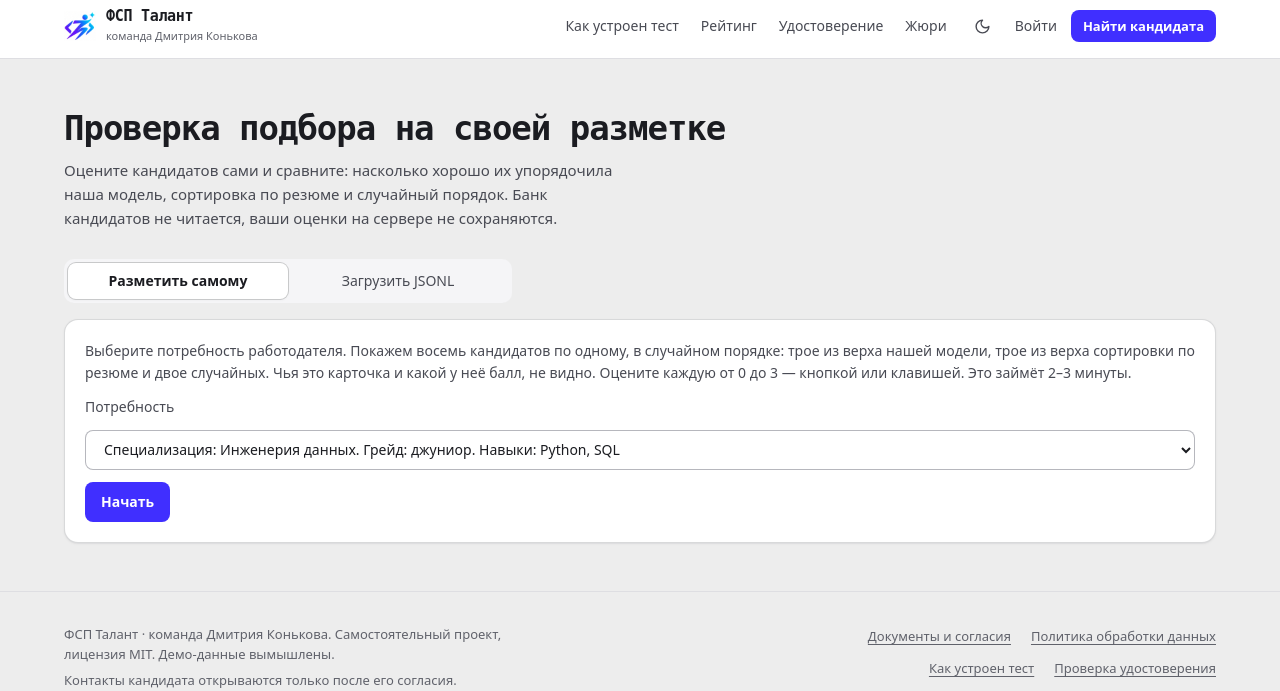
Test: подбор на своей разметке › отправляет пример и показывает метрики модели и базовой линии
Click the tab "Загрузить JSONL".
click(398, 281)  # box top-left (288, 263), bottom-right (508, 299)
(page scrolled)
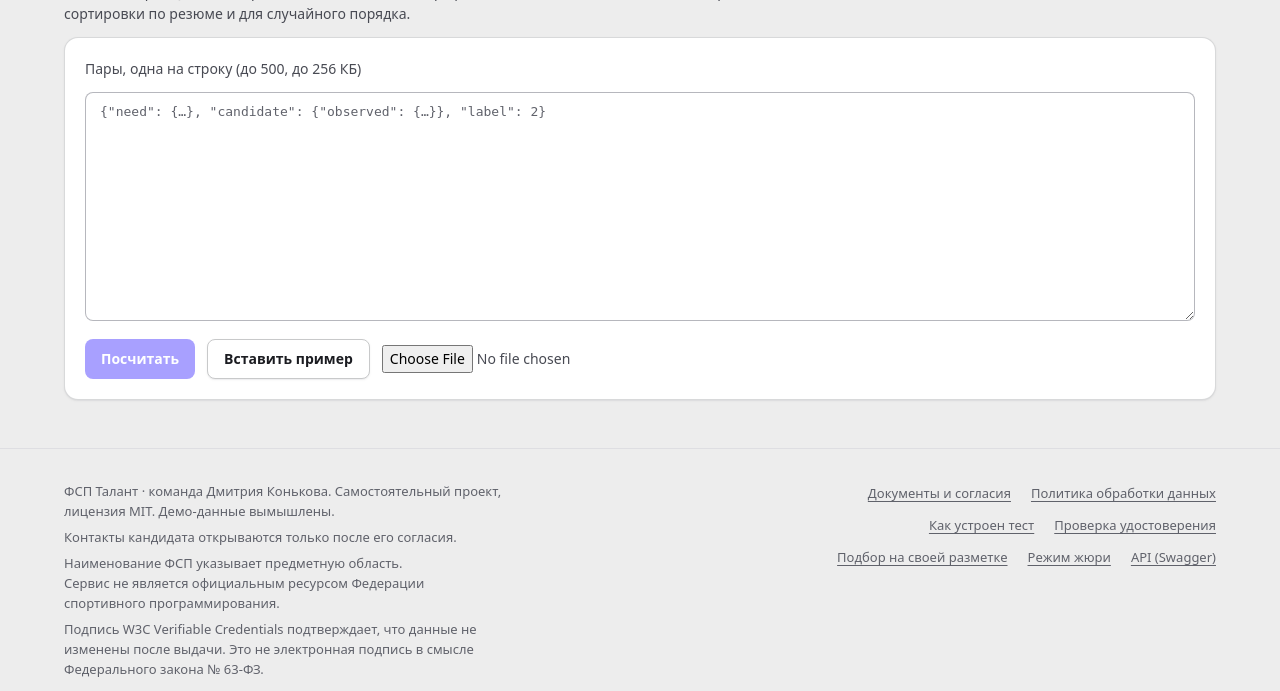
Click the button "Вставить пример".
click(288, 359)  # box top-left (207, 339), bottom-right (370, 379)
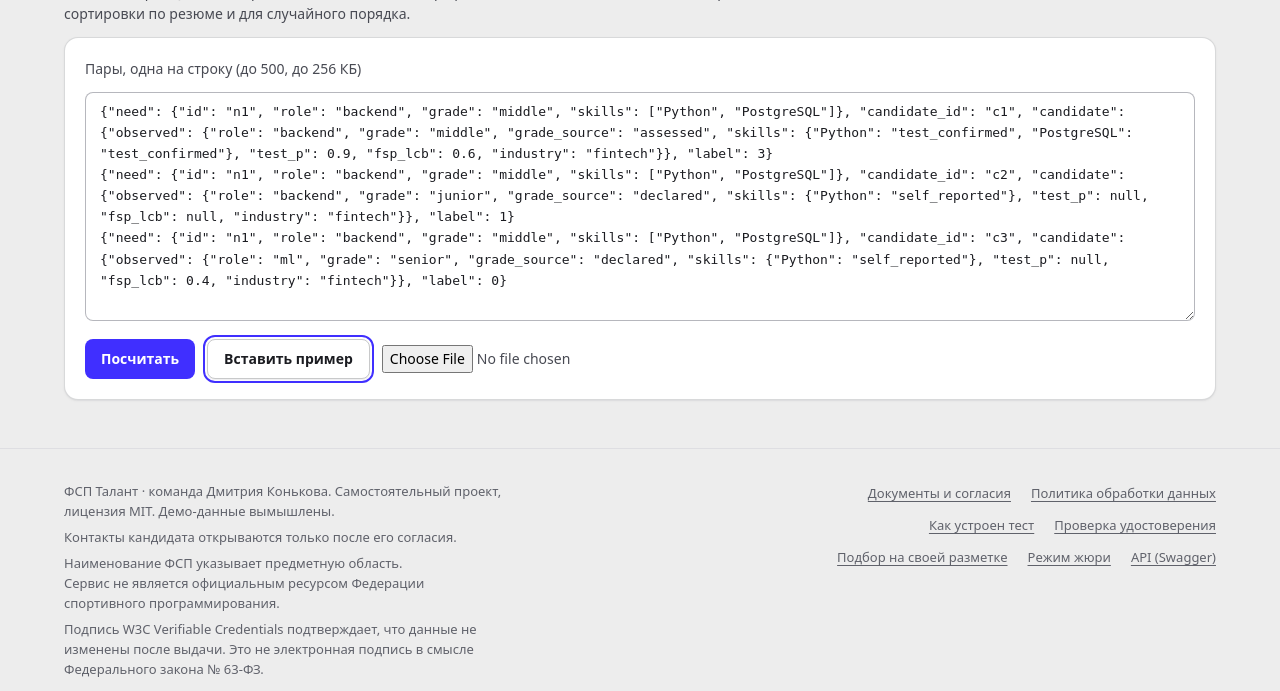
Click the button "Посчитать".
click(140, 359)  # box top-left (85, 339), bottom-right (195, 379)
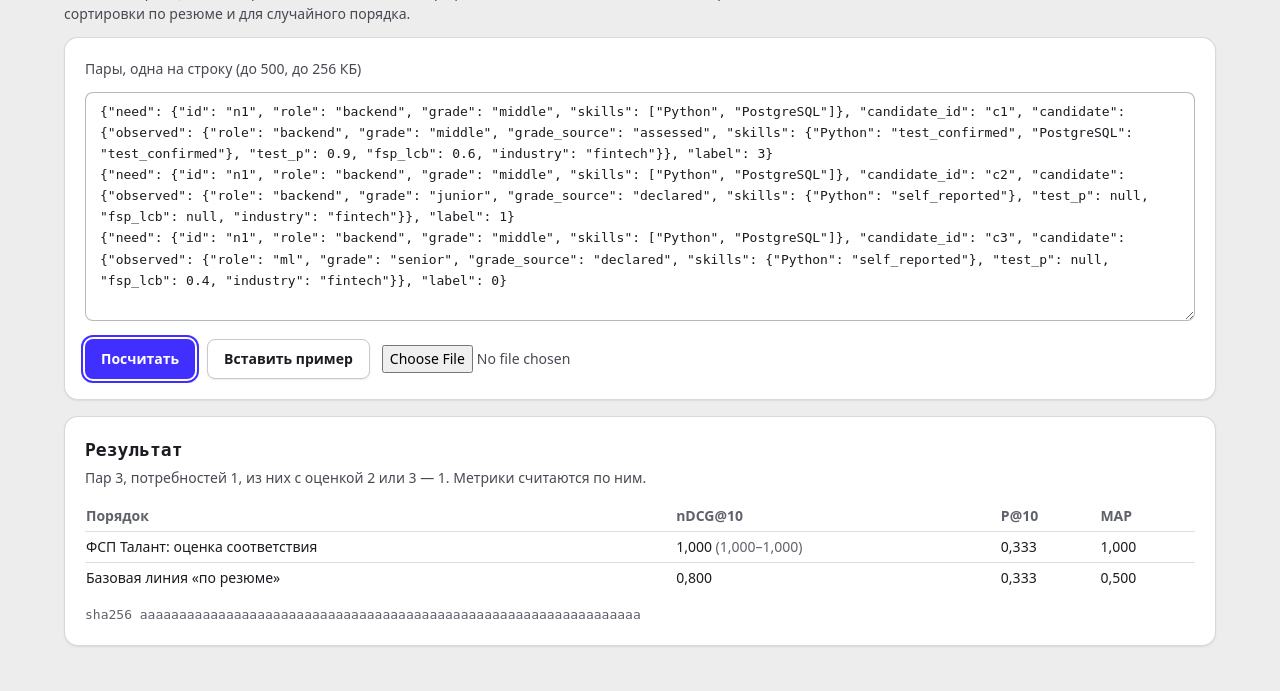
Check: the text "Базовая линия «по резюме»" is shown, box top-left (85, 563), bottom-right (675, 593)
Check: the text "0,800" is shown, box top-left (675, 563), bottom-right (1000, 593)
